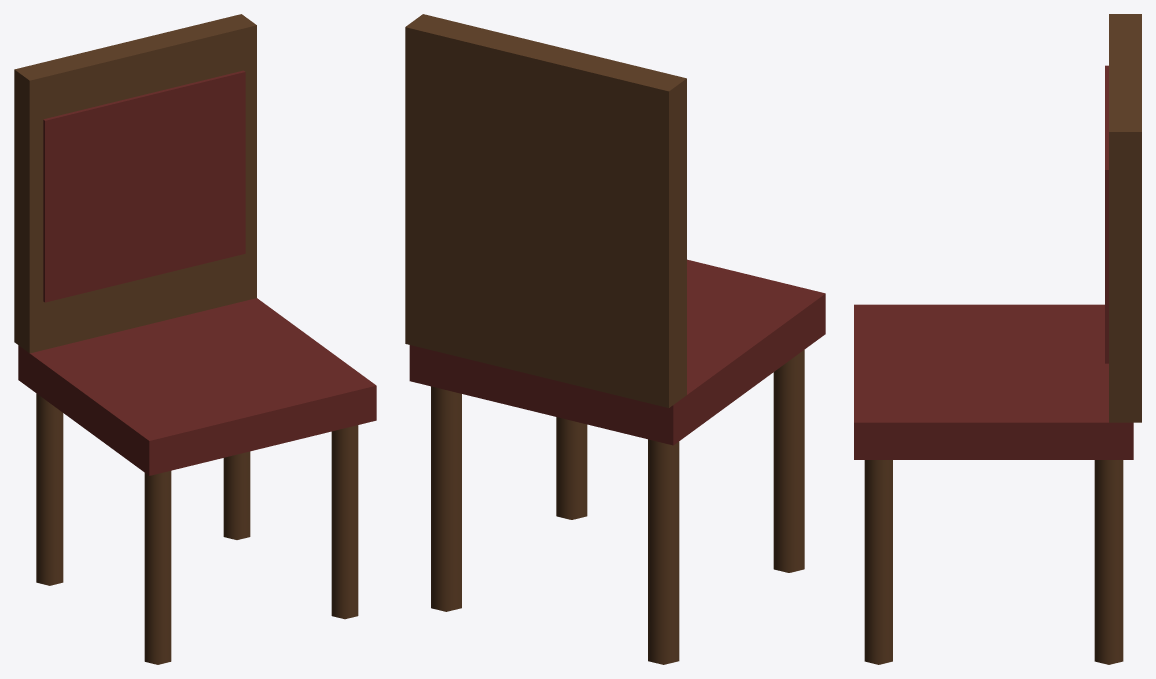
File: cantina_chair.glb
3 renders of one model, left to right at view 1: azimuth 30°, elevation 25°; view 2: azimuth 150°, elevation 25°; view 3: azimuth 270°, elevation 25°, orthographic. The views are drawn at different scales.
Parts seen in each view (by area): view 1: sw5e_int_cantina_chair; view 2: sw5e_int_cantina_chair; view 3: sw5e_int_cantina_chair.
Boxes of the visible parts, <box> form: sw5e_int_cantina_chair: <box>14,14,376,664</box>; sw5e_int_cantina_chair: <box>405,14,825,664</box>; sw5e_int_cantina_chair: <box>854,14,1141,664</box>.
Size of the model in its own units: 0.34 by 0.72 by 0.35.
